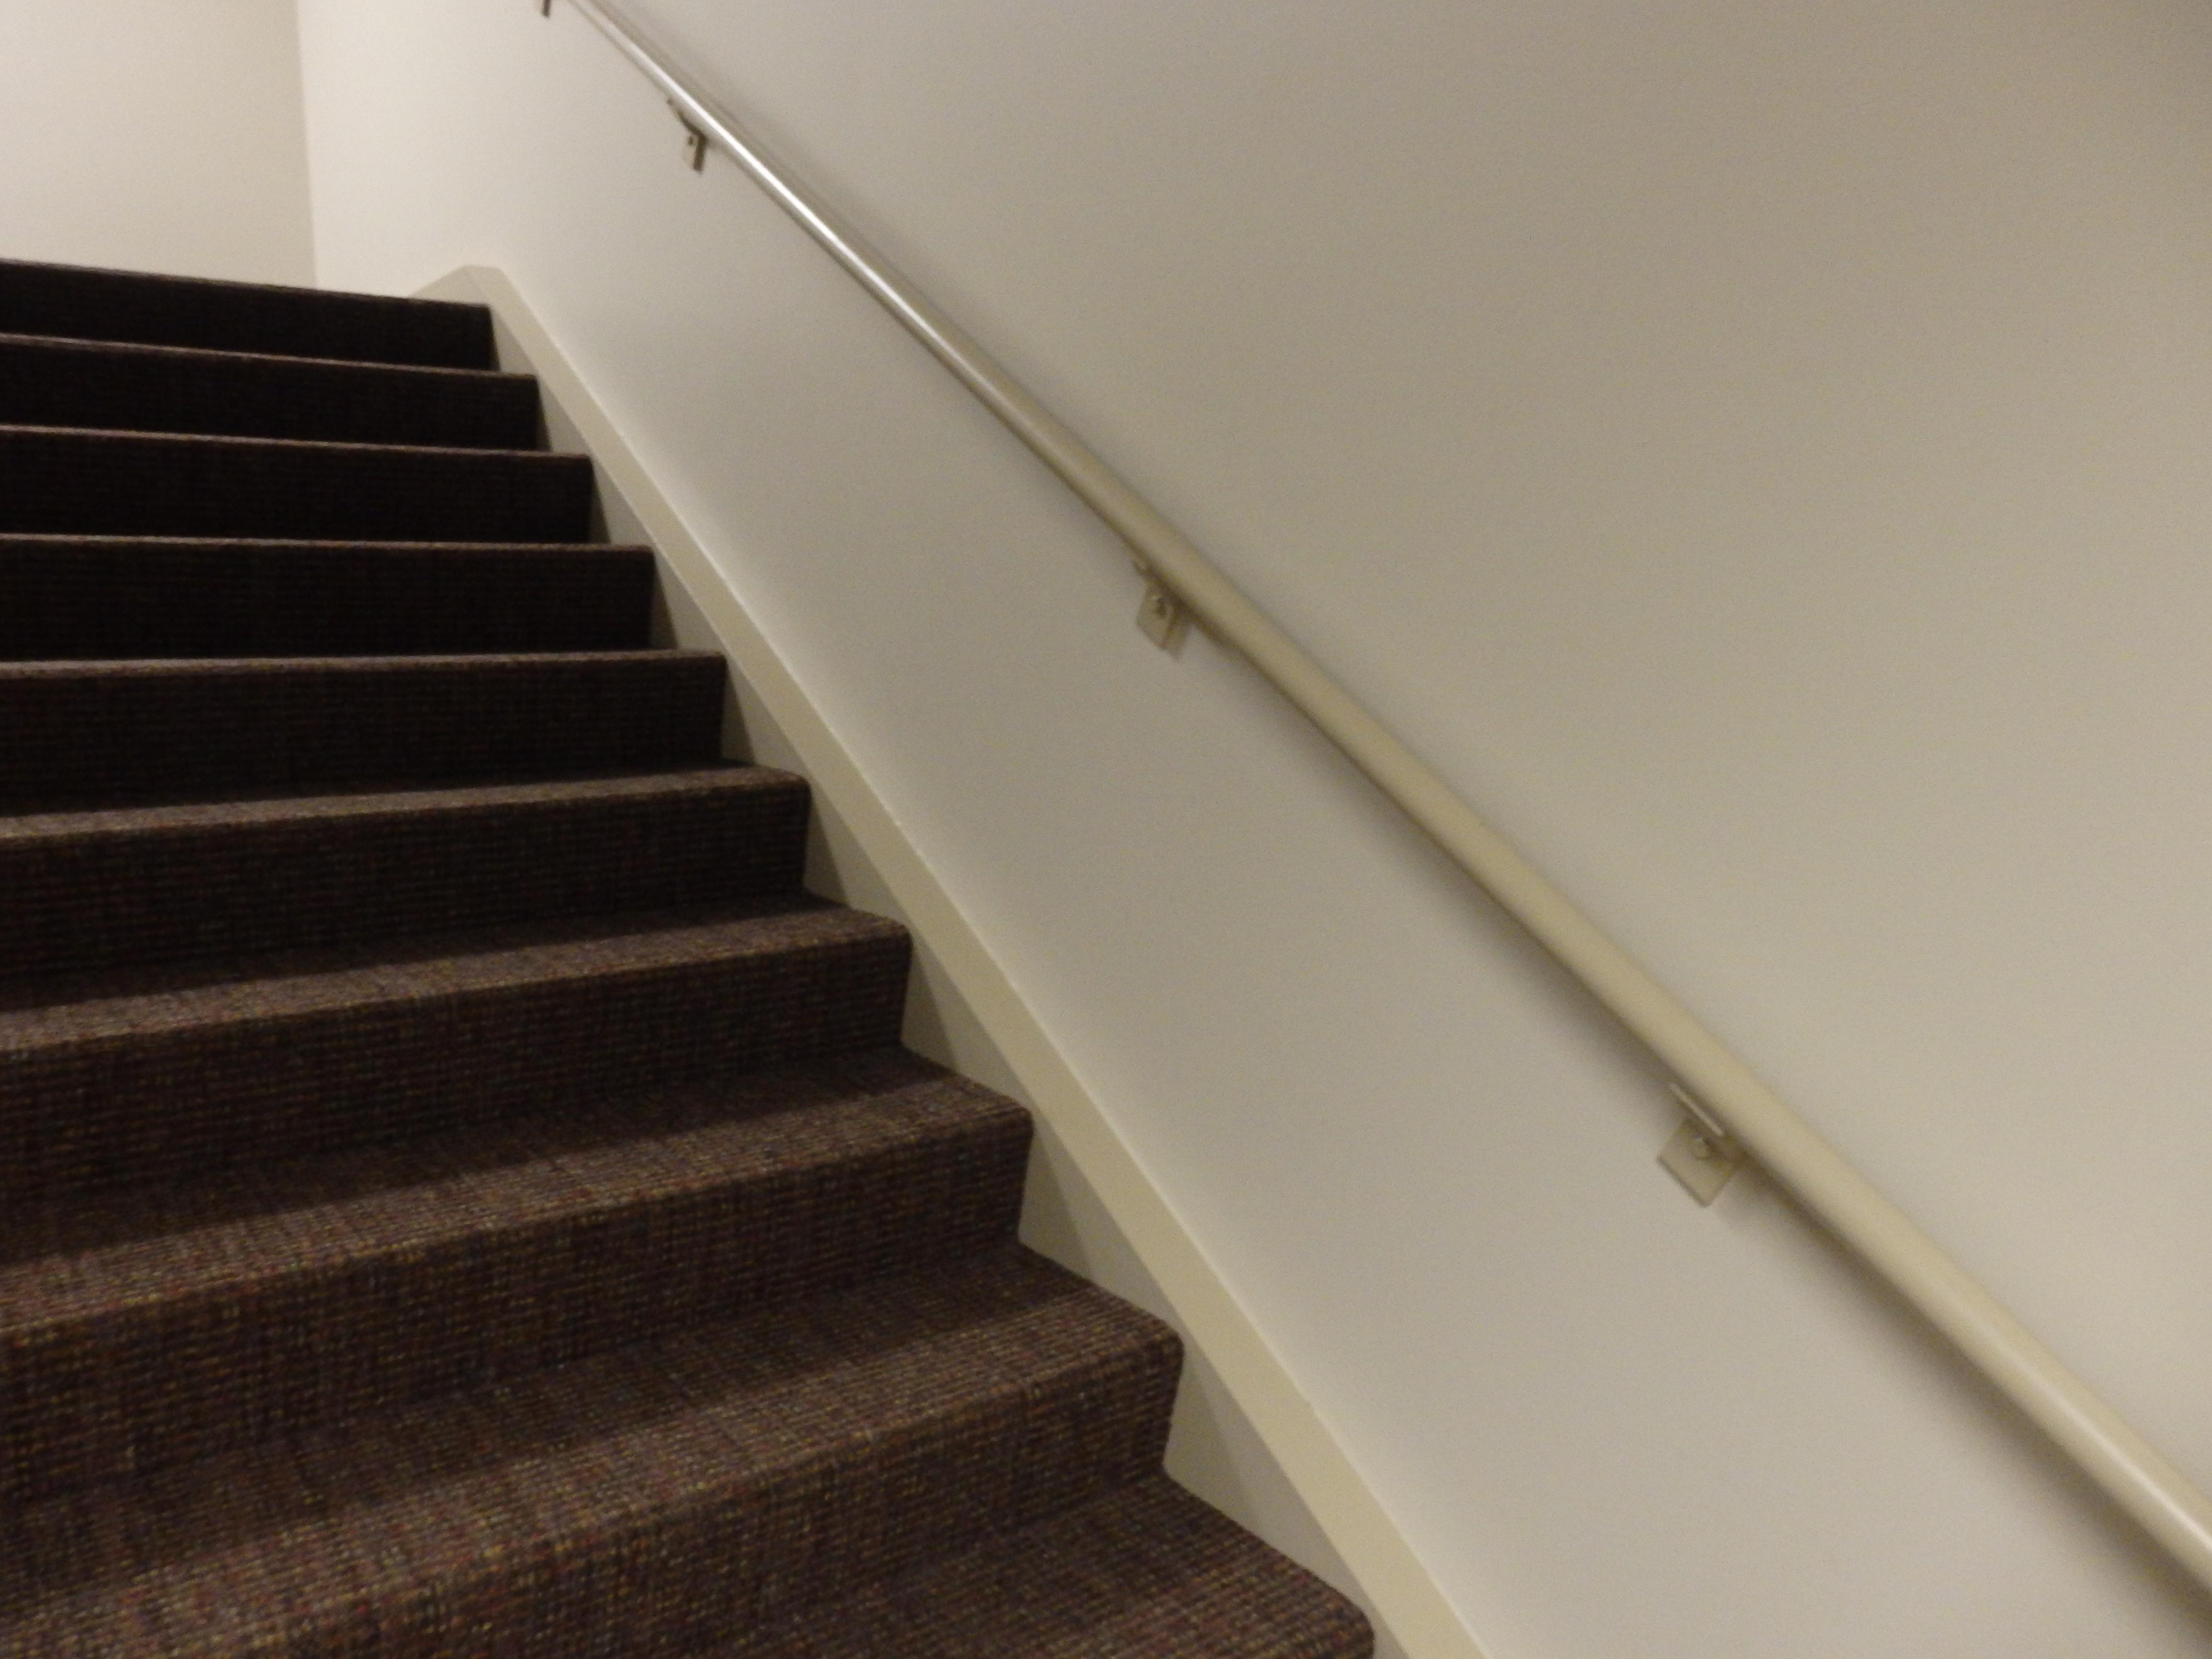stairs_up: (3, 239, 1057, 1656)
